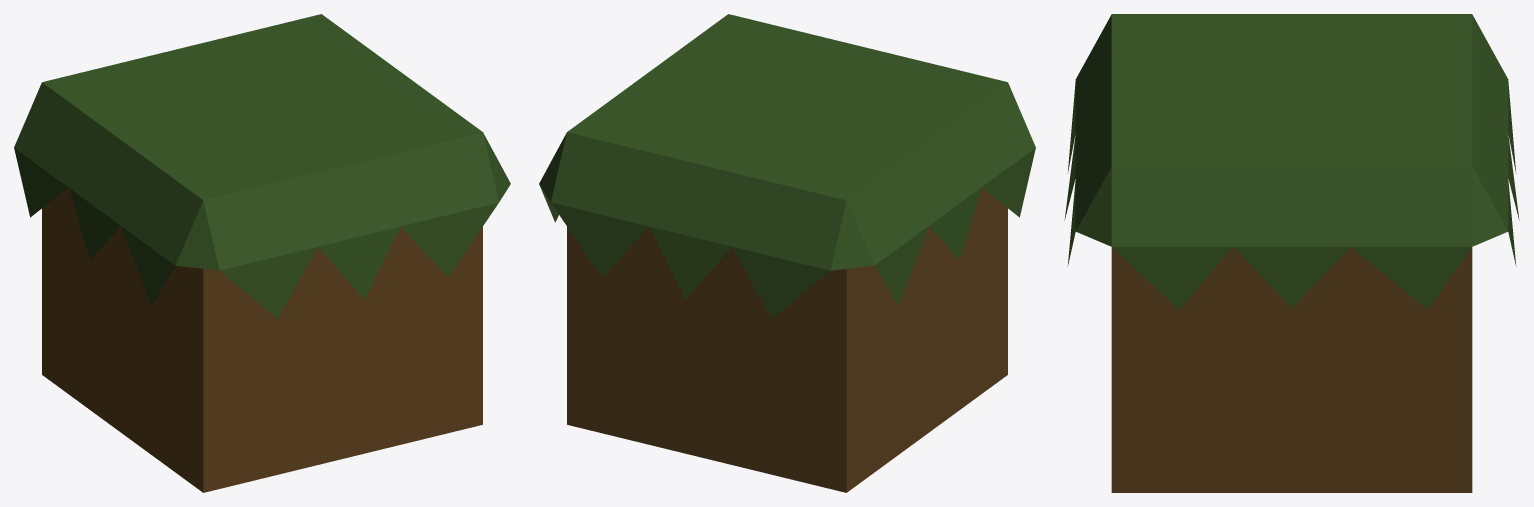
Rendered from Grass default dark.fbx.
3 renders of one model, left to right at view 1: azimuth 30°, elevation 25°; view 2: azimuth 150°, elevation 25°; view 3: azimuth 270°, elevation 25°, orthographic. The views are drawn at different scales.
Parts seen in each view (by area): view 1: Grass default.001; view 2: Grass default.001; view 3: Grass default.001.
Boxes of the visible parts, x1=… form: Grass default.001: x1=14, y1=14, x2=510, y2=492; Grass default.001: x1=539, y1=14, x2=1035, y2=492; Grass default.001: x1=1064, y1=14, x2=1519, y2=492.
Size of the model in its own units: 126 by 100 by 123.
